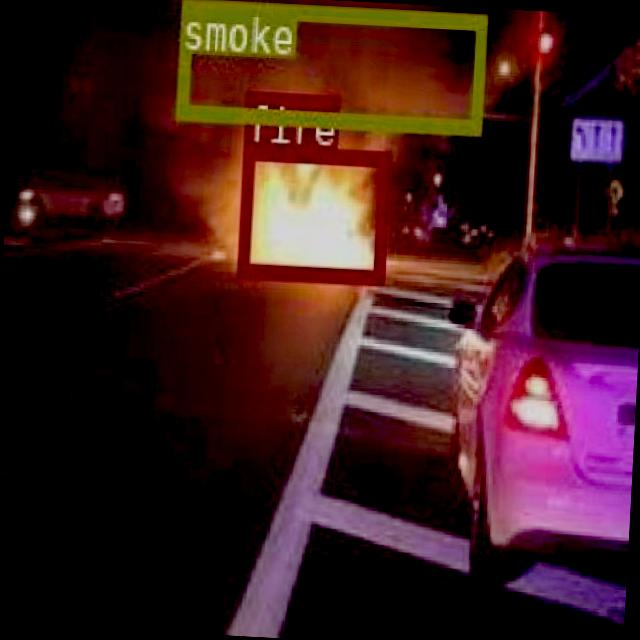fire: (235, 140, 388, 280)
smoke: (174, 0, 485, 133)
